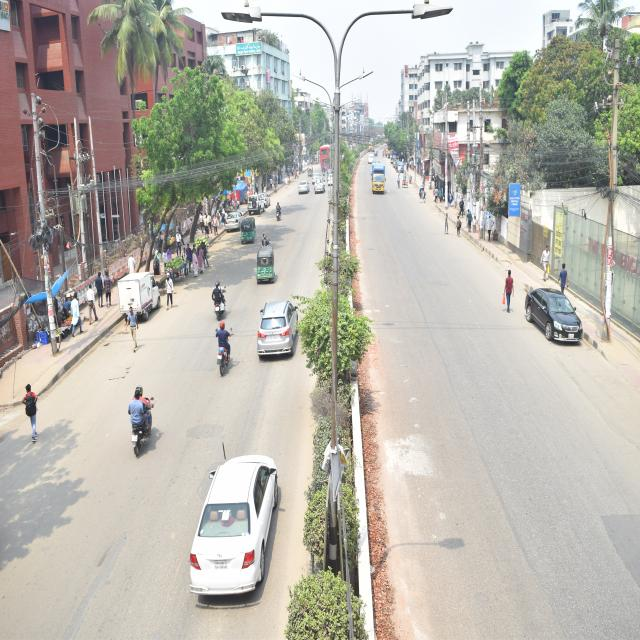bus: (313, 144, 333, 180), (300, 178, 309, 204)
car: (185, 432, 289, 627), (258, 293, 302, 364), (215, 207, 248, 235), (246, 184, 269, 218), (314, 170, 324, 202)
motorbike: (118, 375, 162, 462), (212, 319, 244, 380), (211, 284, 230, 326), (268, 197, 288, 230), (260, 227, 270, 259)
pickup-van: (99, 243, 186, 336)
truck: (369, 161, 385, 202)
